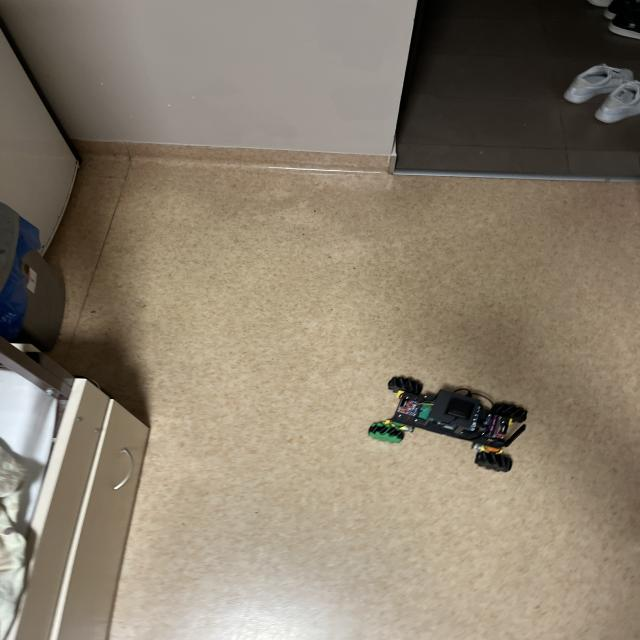robot: (368, 376, 527, 472)
